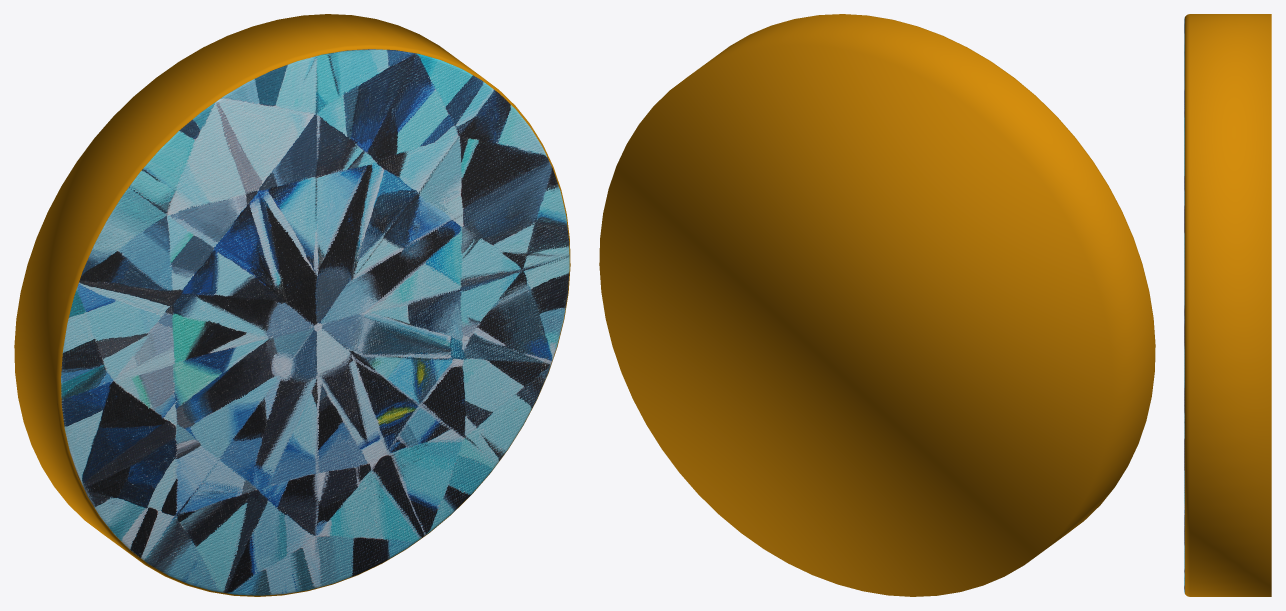
File: bette.glb
3 renders of one model, left to right at view 1: azimuth 30°, elevation 25°; view 2: azimuth 150°, elevation 25°; view 3: azimuth 270°, elevation 25°, orthographic.
Visible parts, largest first — view 1: bette; view 2: bette; view 3: bette.
Part boxes in pixels (bbox=[...]): bette: bbox=[14, 14, 570, 596]; bette: bbox=[599, 14, 1155, 596]; bette: bbox=[1184, 14, 1271, 596].
Size of the model in its own units: 0.1999 by 0.1999 by 0.03.
2 materials, 1 textured.
